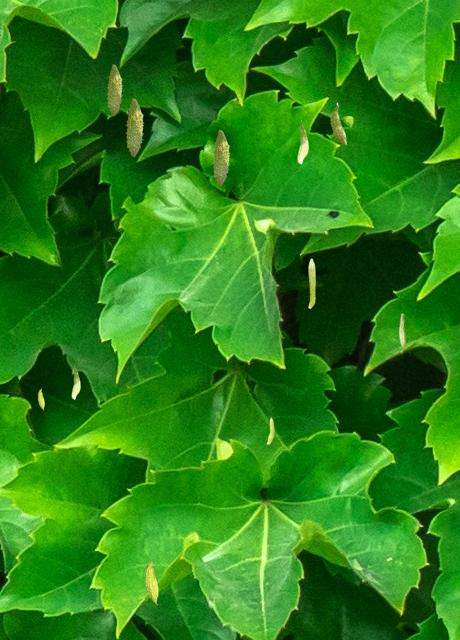ampalaya: (125, 98, 144, 157), (212, 129, 230, 186), (106, 64, 123, 116), (329, 102, 347, 145), (144, 557, 158, 605), (297, 119, 309, 165), (308, 258, 316, 309), (71, 364, 80, 400), (398, 313, 406, 348), (266, 416, 274, 444), (37, 387, 45, 411)
